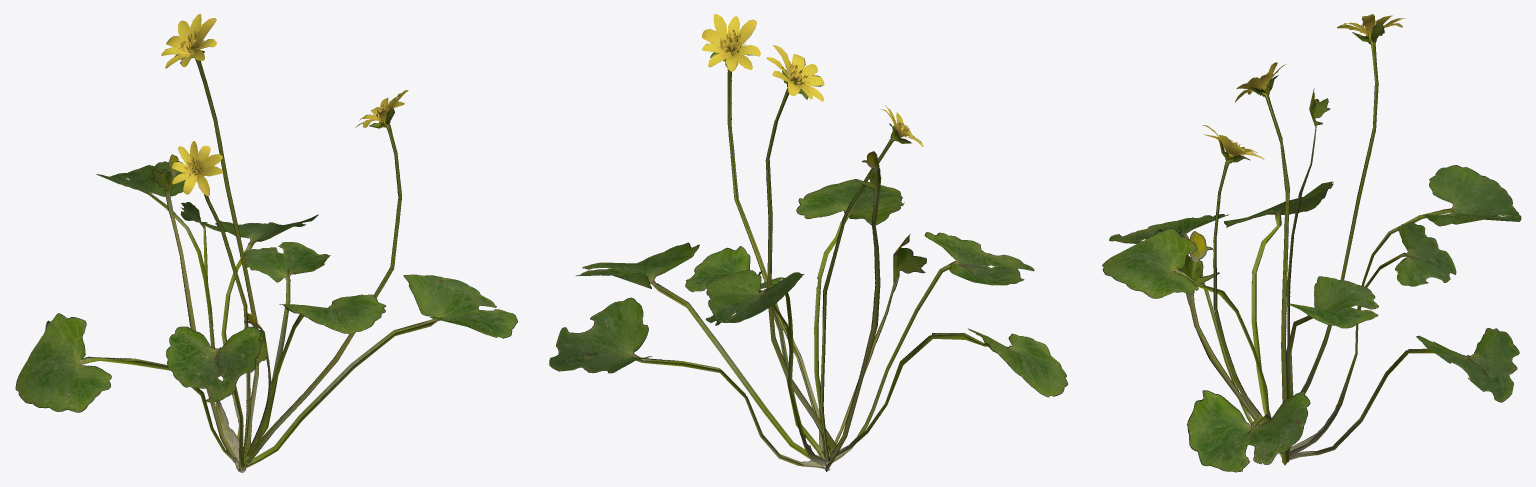
The model's file is celandine_01_c.fbx.
3 views of the same model, side by side, from view 1: azimuth 30°, elevation 25°; view 2: azimuth 150°, elevation 25°; view 3: azimuth 270°, elevation 25° (orthographic). The views are drawn at different scales.
Parts seen in each view (by area): view 1: celandine_01_c; view 2: celandine_01_c; view 3: celandine_01_c.
Boxes of the visible parts, box(x1,y1,x2,y2) form: celandine_01_c: box(15, 14, 517, 472); celandine_01_c: box(549, 14, 1067, 471); celandine_01_c: box(1102, 14, 1521, 472).
Size of the model in its own units: 0.2571 by 0.22 by 0.1863.
1 material, 1 textured.
